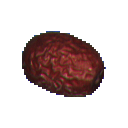gd: (16, 20, 127, 122)
